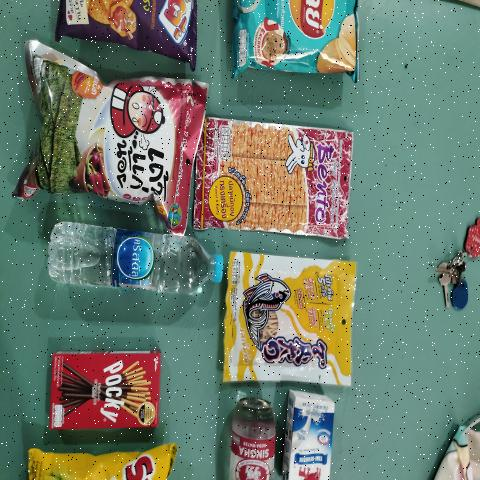bento_red: (203, 126, 347, 229)
crystal: (38, 218, 222, 299)
pokki: (52, 357, 158, 427)
taokaenoi: (39, 58, 176, 207)
taro_yellow: (231, 263, 348, 377)
